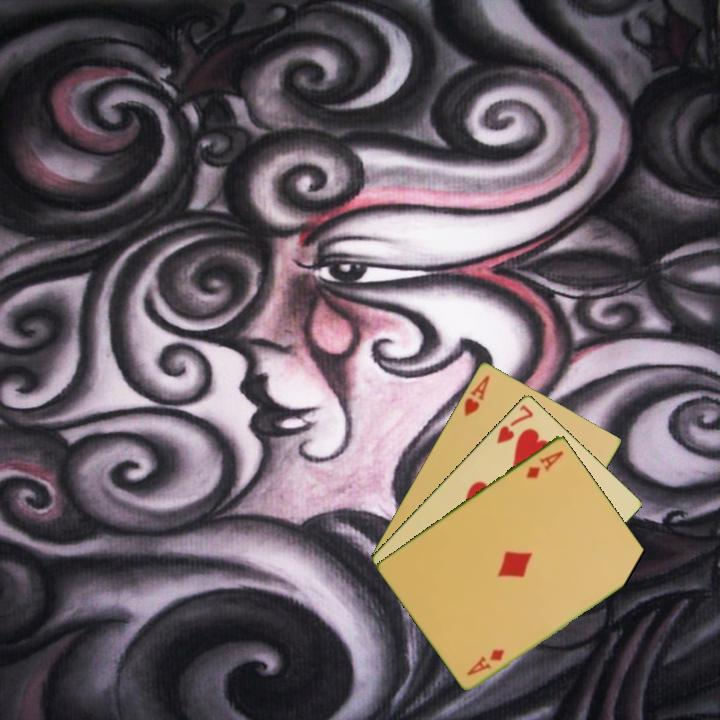7h: (493, 401, 536, 446)
Ad: (522, 447, 567, 481), (463, 645, 507, 678)
Ah: (460, 372, 493, 419)
